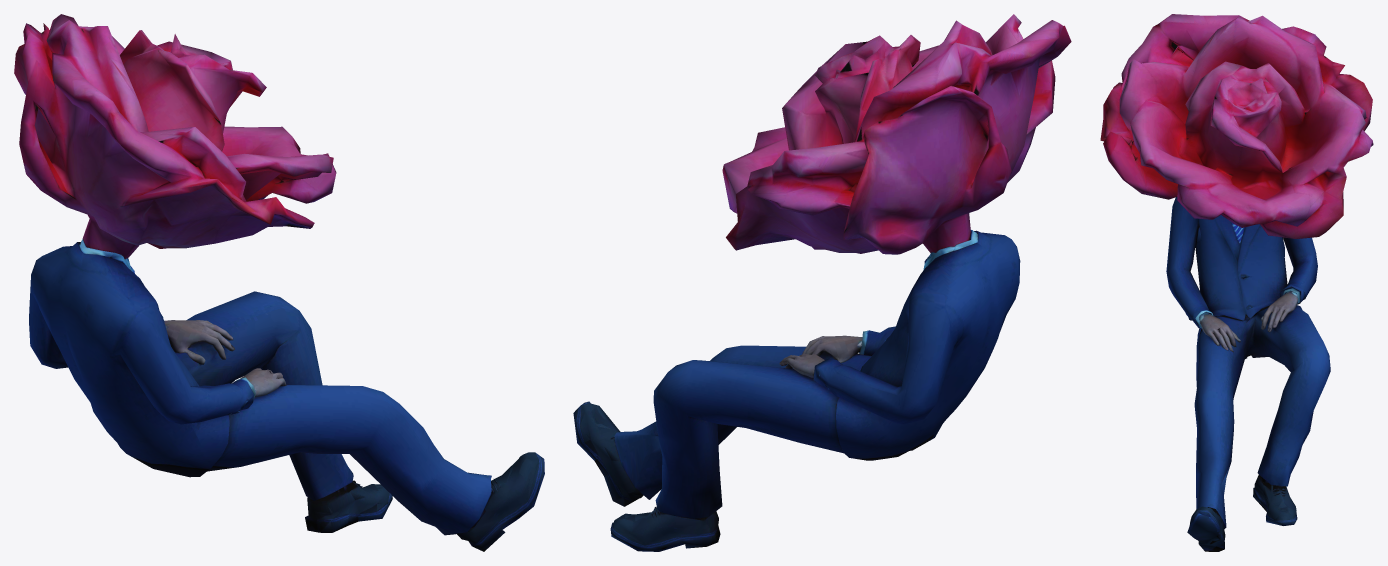
Rendered from RoseGuy.glb.
3 views of the same model, side by side, from view 1: azimuth 30°, elevation 25°; view 2: azimuth 150°, elevation 25°; view 3: azimuth 270°, elevation 25° (orthographic). The views are drawn at different scales.
Visible parts, largest first — view 1: male_elegantsuit01.obj.003, Pink_rose_retopo.008, shoes03.obj.003, male_generic.obj.003; view 2: Pink_rose_retopo.008, male_elegantsuit01.obj.003, shoes03.obj.003, male_generic.obj.003; view 3: Pink_rose_retopo.008, male_elegantsuit01.obj.003, shoes03.obj.003, male_generic.obj.003.
Boxes of the visible parts, bbox=[...] form: male_elegantsuit01.obj.003: bbox=[29, 239, 491, 535]; Pink_rose_retopo.008: bbox=[14, 14, 336, 259]; shoes03.obj.003: bbox=[305, 452, 544, 551]; male_generic.obj.003: bbox=[164, 320, 480, 521]; Pink_rose_retopo.008: bbox=[722, 14, 1071, 254]; male_elegantsuit01.obj.003: bbox=[614, 230, 1020, 518]; shoes03.obj.003: bbox=[573, 401, 720, 551]; male_generic.obj.003: bbox=[779, 335, 862, 377]; Pink_rose_retopo.008: bbox=[1100, 14, 1373, 238]; male_elegantsuit01.obj.003: bbox=[1166, 197, 1330, 528]; shoes03.obj.003: bbox=[1187, 474, 1297, 551]; male_generic.obj.003: bbox=[1199, 291, 1297, 351].
Bounding box in the file's own units: 1.09 × 1.29 × 0.7716.
4 materials, 4 textured.
